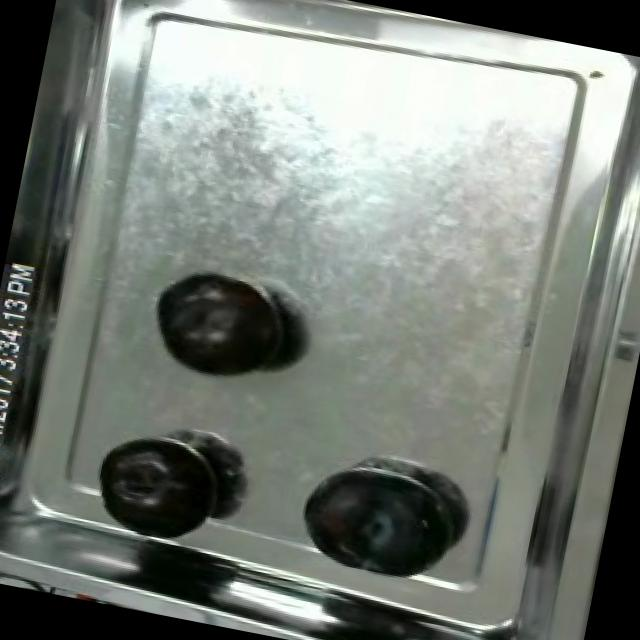Fruit: (284, 446, 464, 588), (142, 261, 304, 394), (84, 422, 236, 550)
